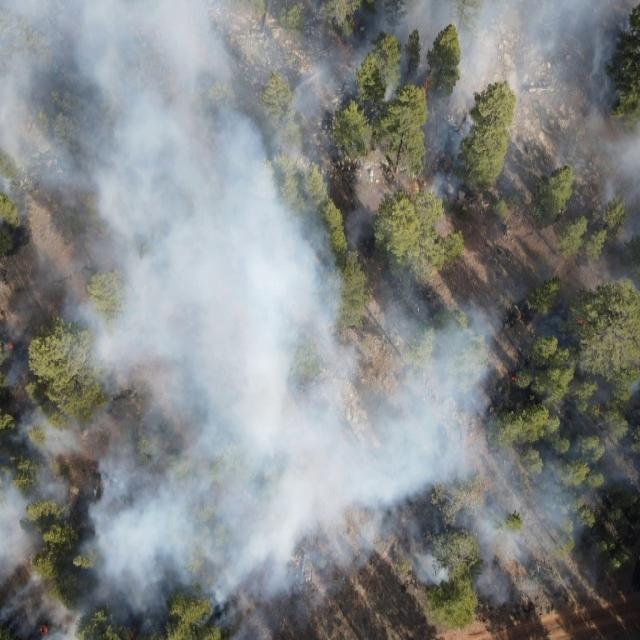fire: (421, 66, 436, 90), (347, 13, 357, 28), (38, 622, 49, 634), (509, 372, 520, 383), (575, 314, 584, 325)
smoke: (1, 1, 318, 640), (319, 253, 640, 604), (318, 0, 472, 254), (470, 0, 640, 196), (602, 200, 640, 250)
